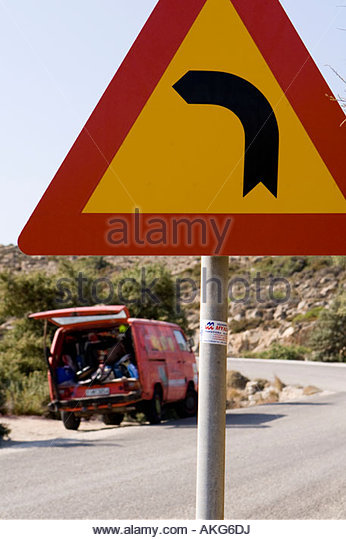Bend_to_left: (17, 1, 346, 255)
